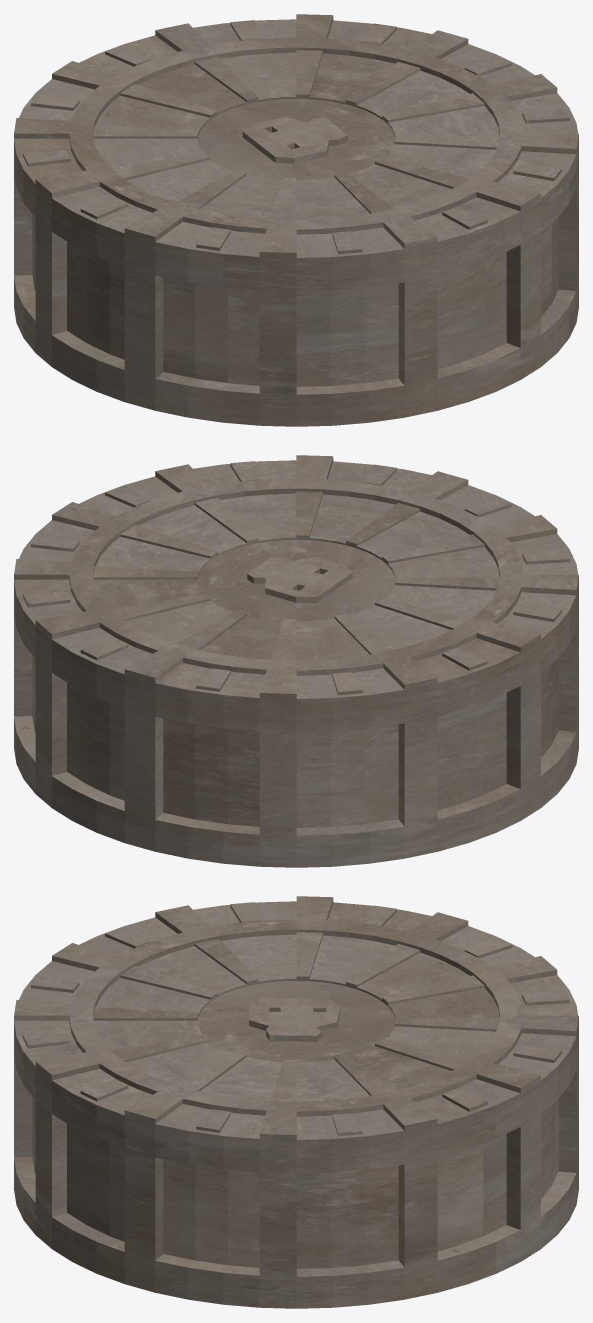
Rendered from Temple table.fbx.
The picture shows the model from 3 angles, top to bottom: view 1: azimuth 30°, elevation 25°; view 2: azimuth 150°, elevation 25°; view 3: azimuth 270°, elevation 25°; orthographic projection.
Visible parts, largest first — view 1: Temple table; view 2: Temple table; view 3: Temple table.
Boxes of the visible parts, x1=… form: Temple table: x1=14, y1=14, x2=578, y2=426; Temple table: x1=14, y1=455, x2=578, y2=867; Temple table: x1=14, y1=896, x2=578, y2=1308.
Bounding box in the file's own units: 613 × 208 × 613.
1 material, 1 textured.
